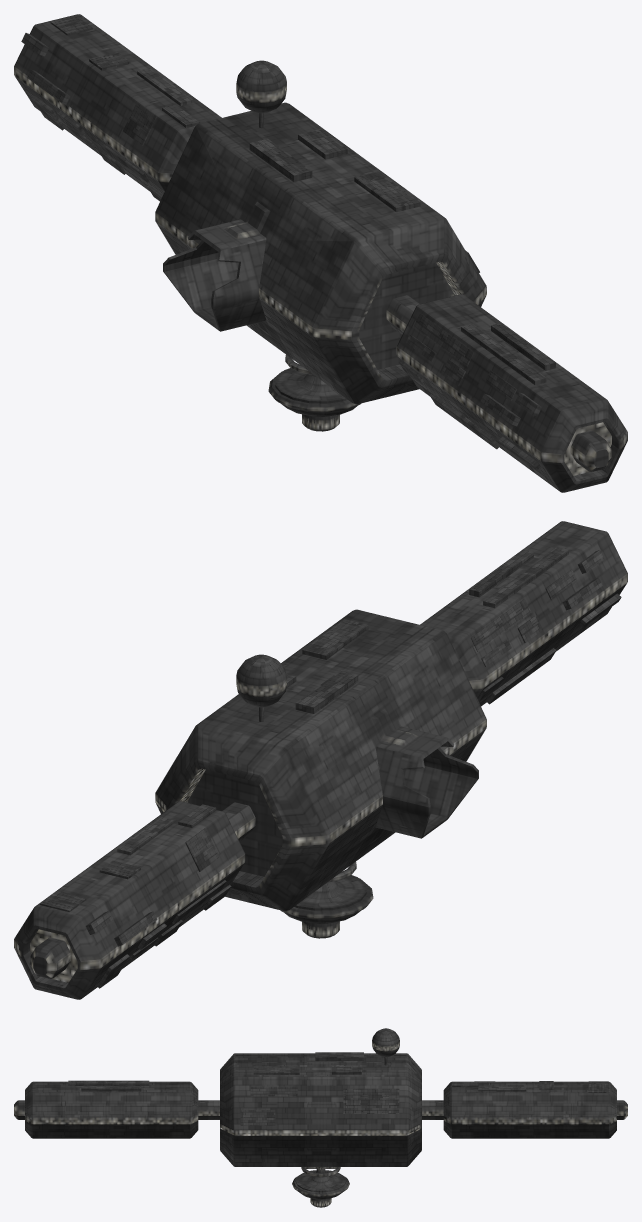
Rendered from spacestation.dae.
3 views of the same model, one above another, from view 1: azimuth 30°, elevation 25°; view 2: azimuth 150°, elevation 25°; view 3: azimuth 270°, elevation 25° (orthographic). The views are drawn at different scales.
Visible parts, largest first — view 1: station_003; view 2: station_003; view 3: station_003.
Boxes of the visible parts, x1,y1,x2,y2 form: station_003: (14,14,627,492); station_003: (14,521,627,999); station_003: (14,1028,627,1207).
Bounding box in the file's own units: 116 × 160 × 510.
